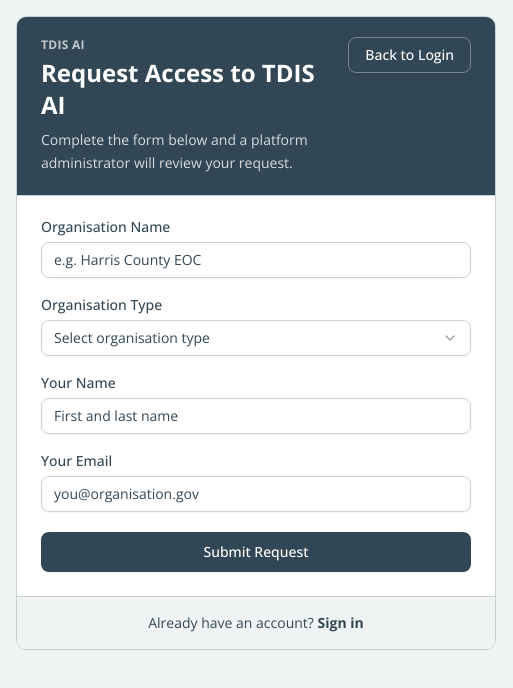
Test case: RequestAccessPage › shows required-field errors and does not fetch when submitted empty
This screenshot has width=513, height=688.
Click the button "Submit Request" at (256, 552), box [41,532,471,572]
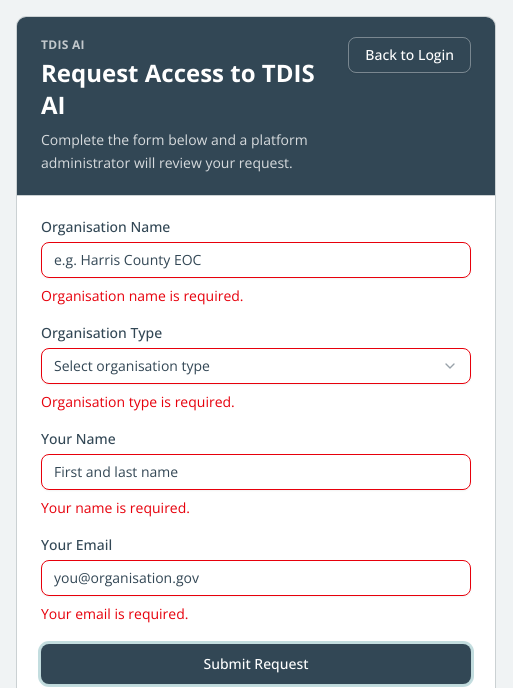
Expected: the text "Organisation name is required." is shown, [41,286,244,304]
Expected: the text "Organisation type is required." is shown, [41,392,235,410]
Expected: the text "Your name is required." is shown, [41,498,190,516]
